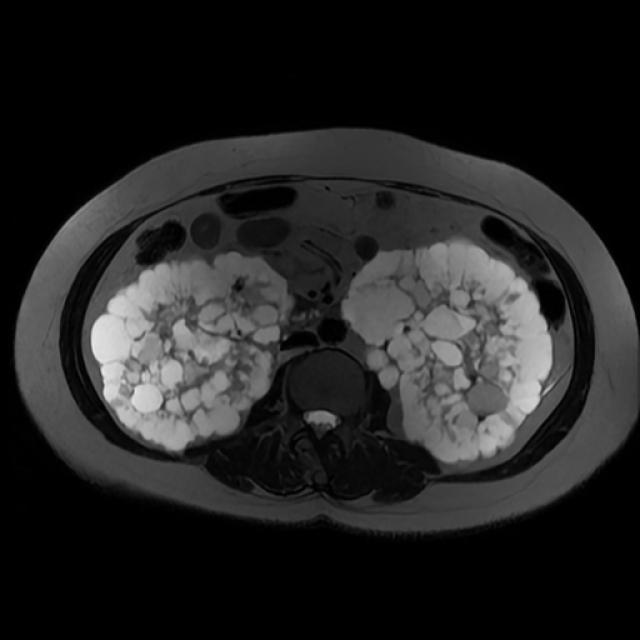sag: (92, 252, 295, 452)
sol: (345, 240, 554, 464)
